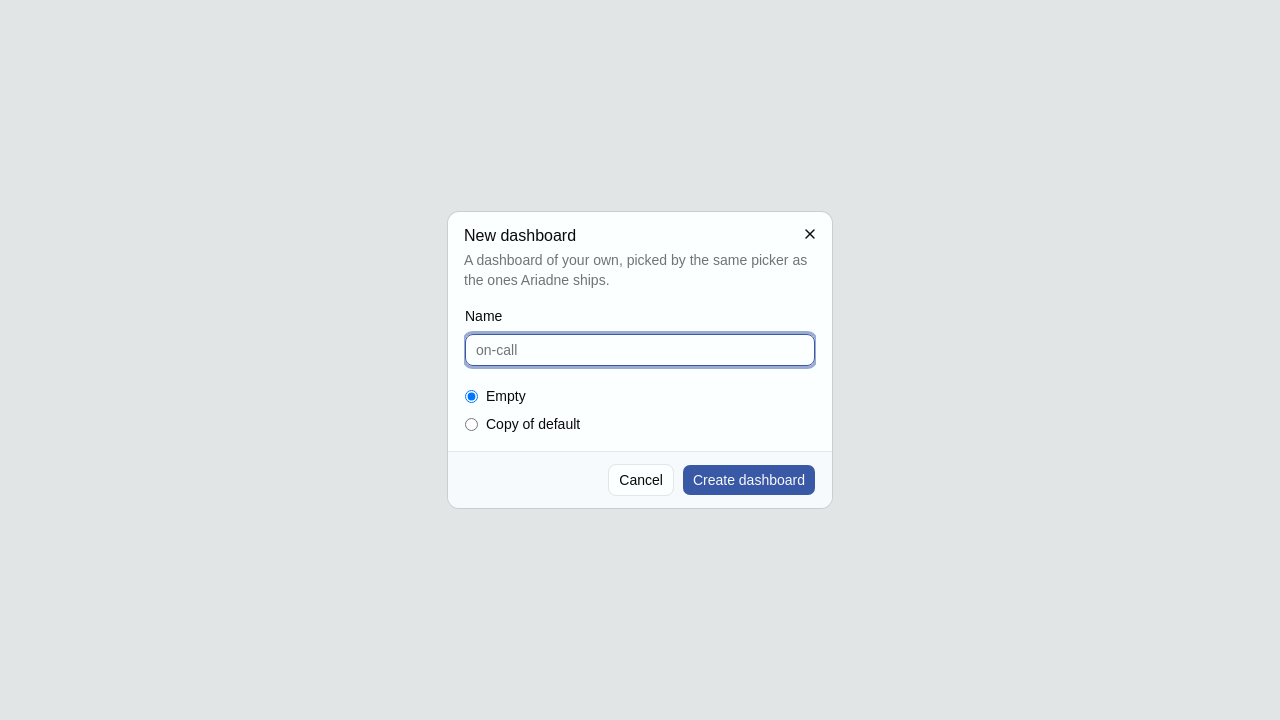
it: creating › refuses a dashboard with no name, before the daemon is asked
This screenshot has width=1280, height=720.
Click the button "Create dashboard" at (749, 480), box [682,464,816,496]
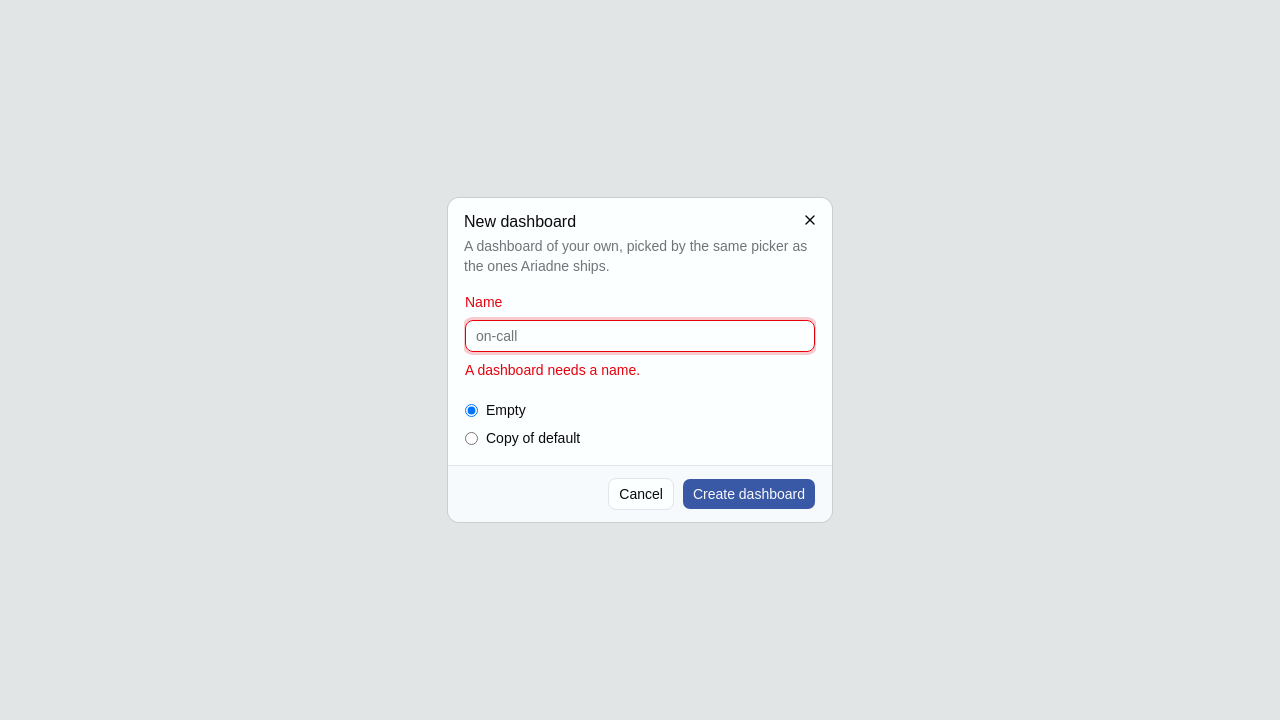
Check: the text "A dashboard needs a name." is shown, box [465,362,640,378]
